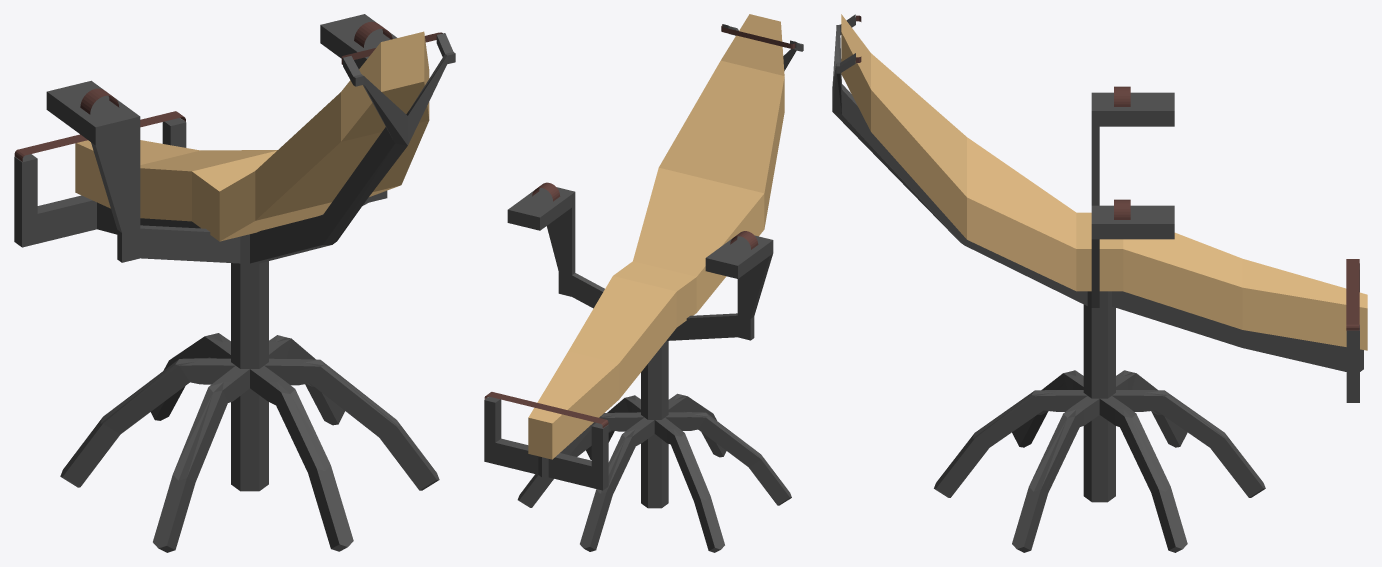
The model's file is RestrainingChair.fbx.
3 renders of one model, left to right at view 1: azimuth 30°, elevation 25°; view 2: azimuth 150°, elevation 25°; view 3: azimuth 270°, elevation 25°, orthographic. The views are drawn at different scales.
Parts seen in each view (by area): view 1: Stand, Rest, Straps; view 2: Rest, Stand, Straps; view 3: Stand, Rest, Straps.
Part boxes in pixels (box(x1,y1,x2,y2)): Stand: box(14, 14, 455, 552); Rest: box(75, 31, 429, 241); Straps: box(14, 21, 442, 161); Rest: box(528, 14, 784, 459); Stand: box(484, 24, 803, 552); Straps: box(484, 25, 795, 428); Stand: box(832, 14, 1363, 552); Rest: box(841, 14, 1367, 350); Straps: box(856, 15, 1359, 330).
Size of the model in its own units: 334 by 194 by 329.
